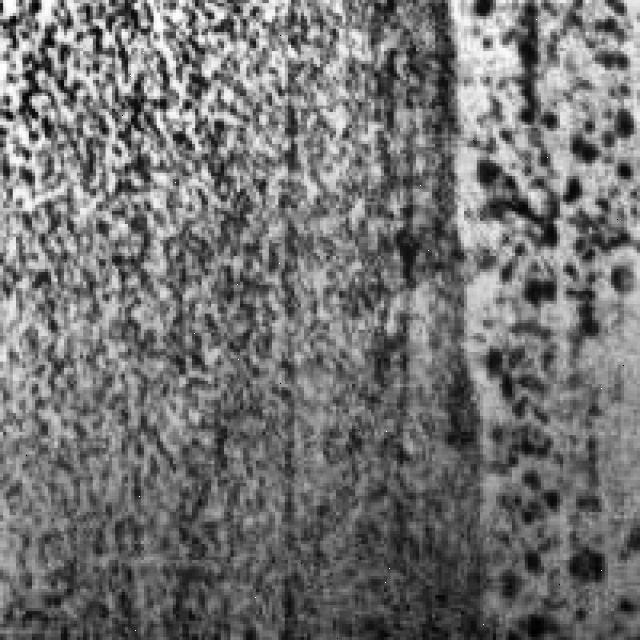Rolled_in_Scale: (4, 0, 422, 624), (480, 0, 640, 634)
